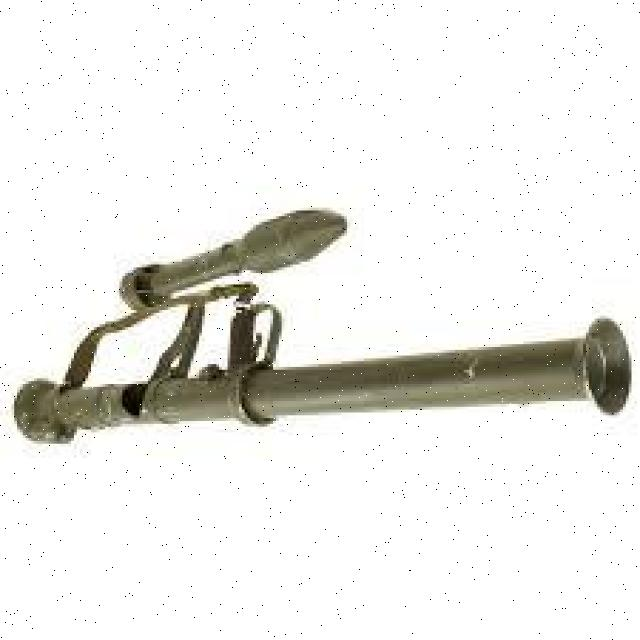bazooka: (14, 193, 635, 457)
